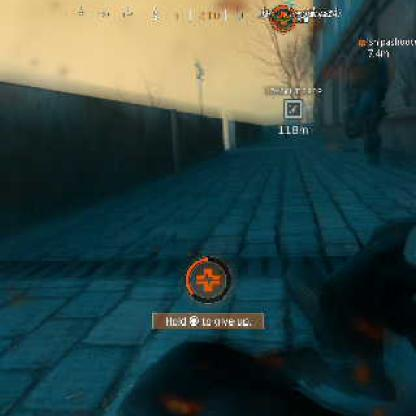enemy: (344, 37, 394, 165)
